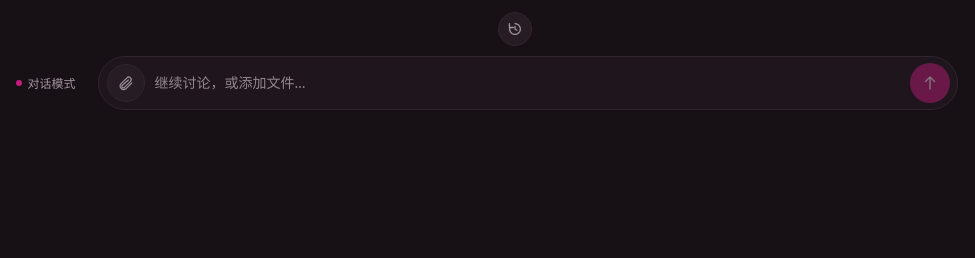
Test: 接续提示（入口②：从历史继续） › 已登记但还没落实时，说明「下一条消息」才生效
Step 1. Click the button named "从历史继续：说明下一条消息从哪段历史继续；收起不会取消已选位置" → click(515, 29), box [498,12,532,46]
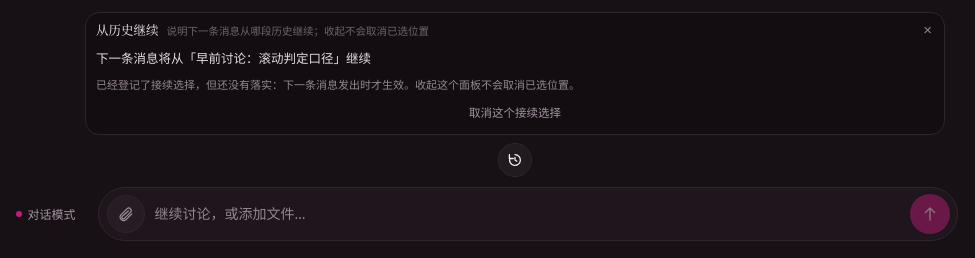
Expected: the element named "从历史继续" shows "下一条消息将从「早前讨论：滚动判定口径」继续", [96,50,371,67]
